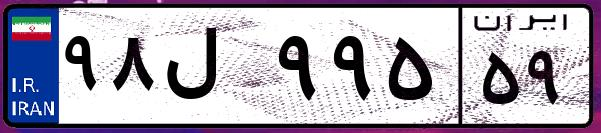5: (385, 28, 445, 110), (475, 38, 525, 113)
8: (110, 28, 158, 98)
9: (270, 28, 330, 110), (330, 28, 385, 110), (57, 26, 110, 100), (525, 38, 570, 115)
ل: (158, 20, 270, 120)
